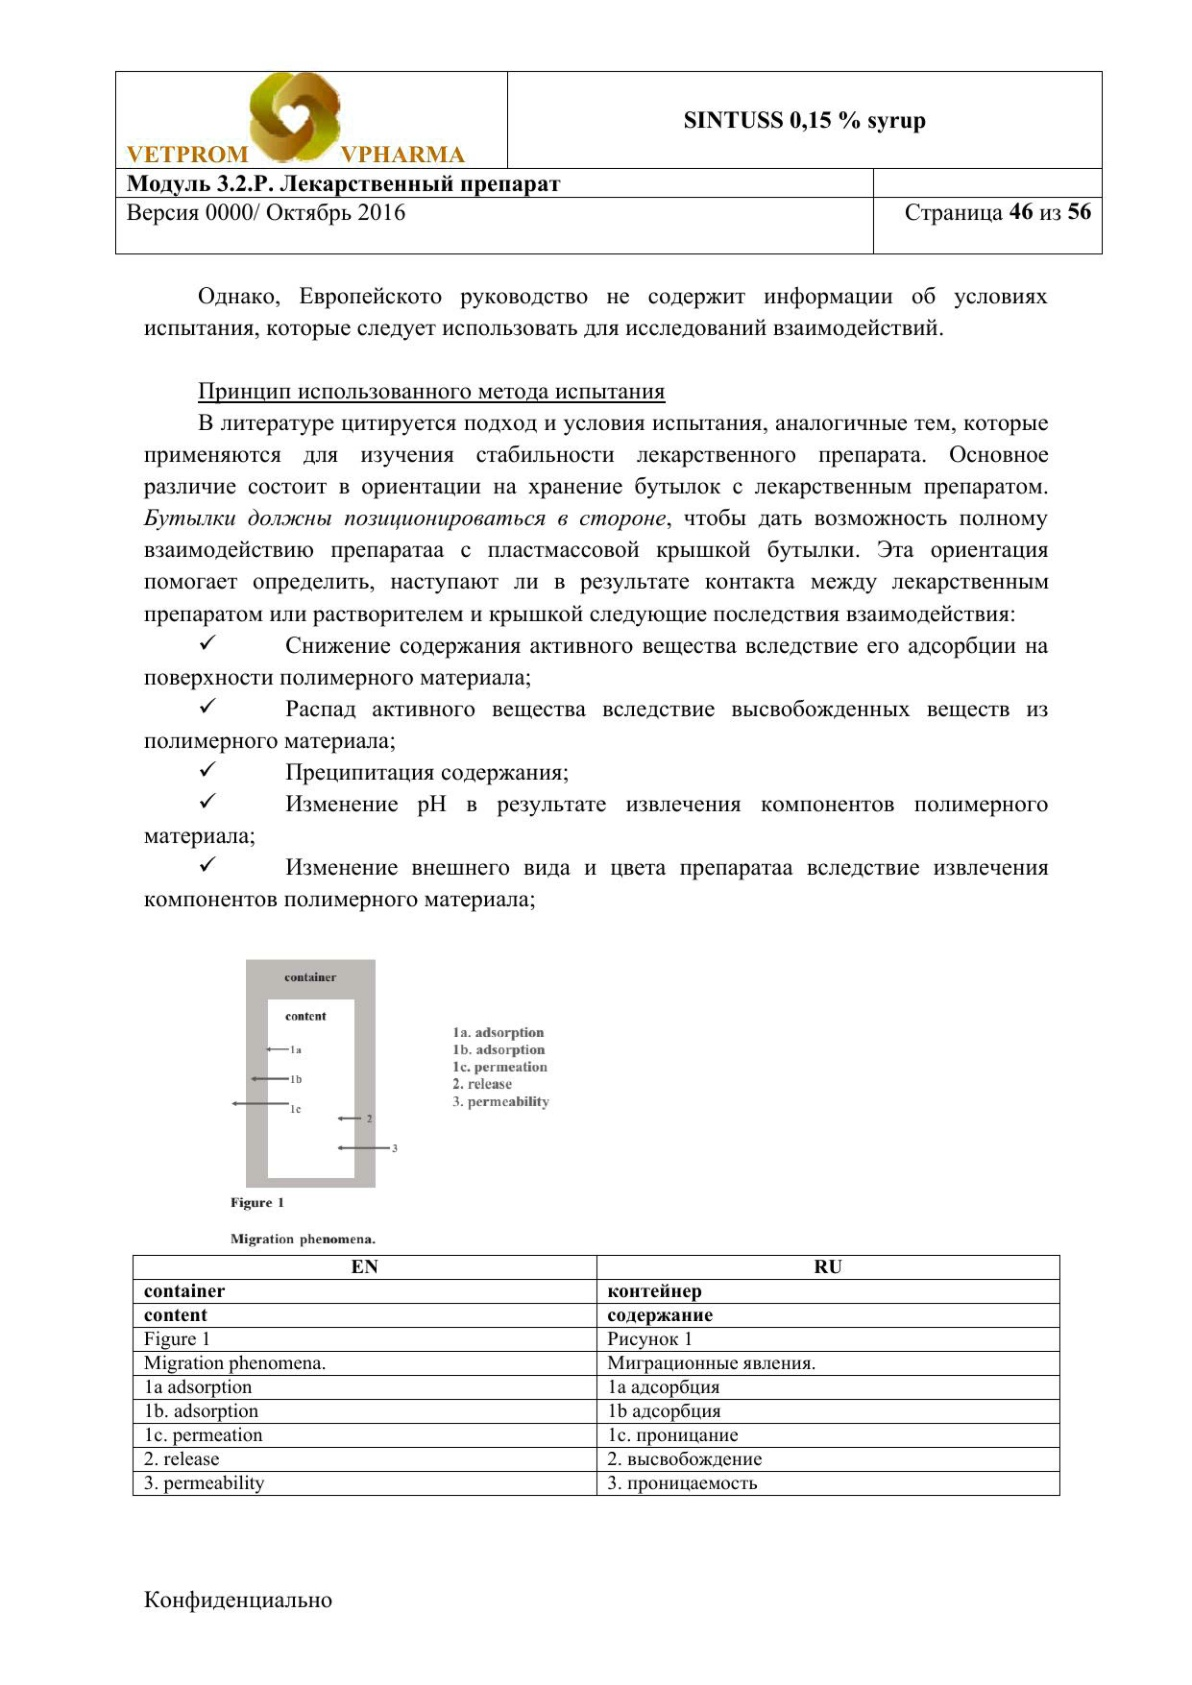full_lined: (132, 1251, 1062, 1498)
merged_cells: (114, 68, 1106, 255)
